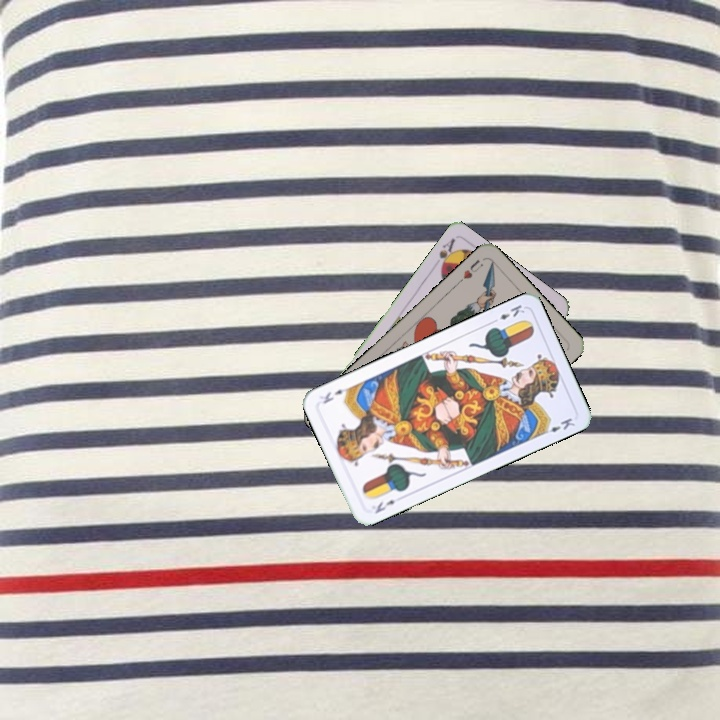EK: (487, 301, 527, 326), (371, 496, 398, 516)
HU: (454, 255, 486, 286)
SA: (435, 234, 459, 274)
